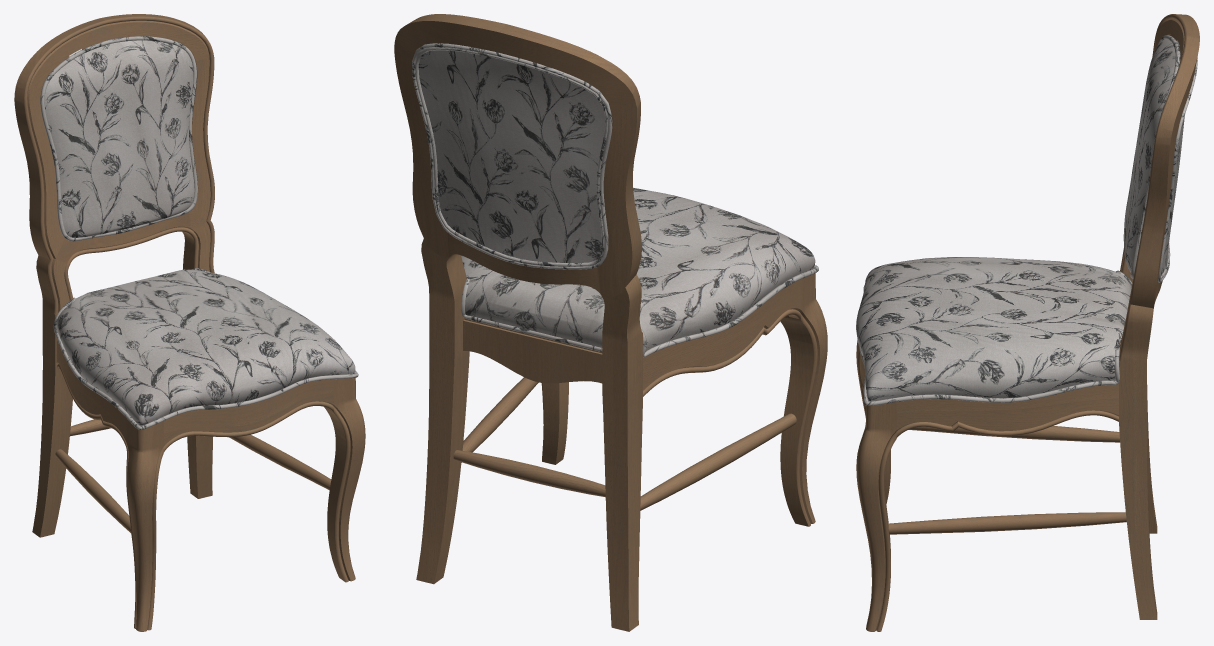
Rendered from example72.gltf.
3 views of the same model, side by side, from view 1: azimuth 30°, elevation 25°; view 2: azimuth 150°, elevation 25°; view 3: azimuth 270°, elevation 25° (orthographic). The views are drawn at different scales.
Size of the model in its own units: 48.6 by 95.93 by 55.71.
Materials: 3 (2 with a texture image).
